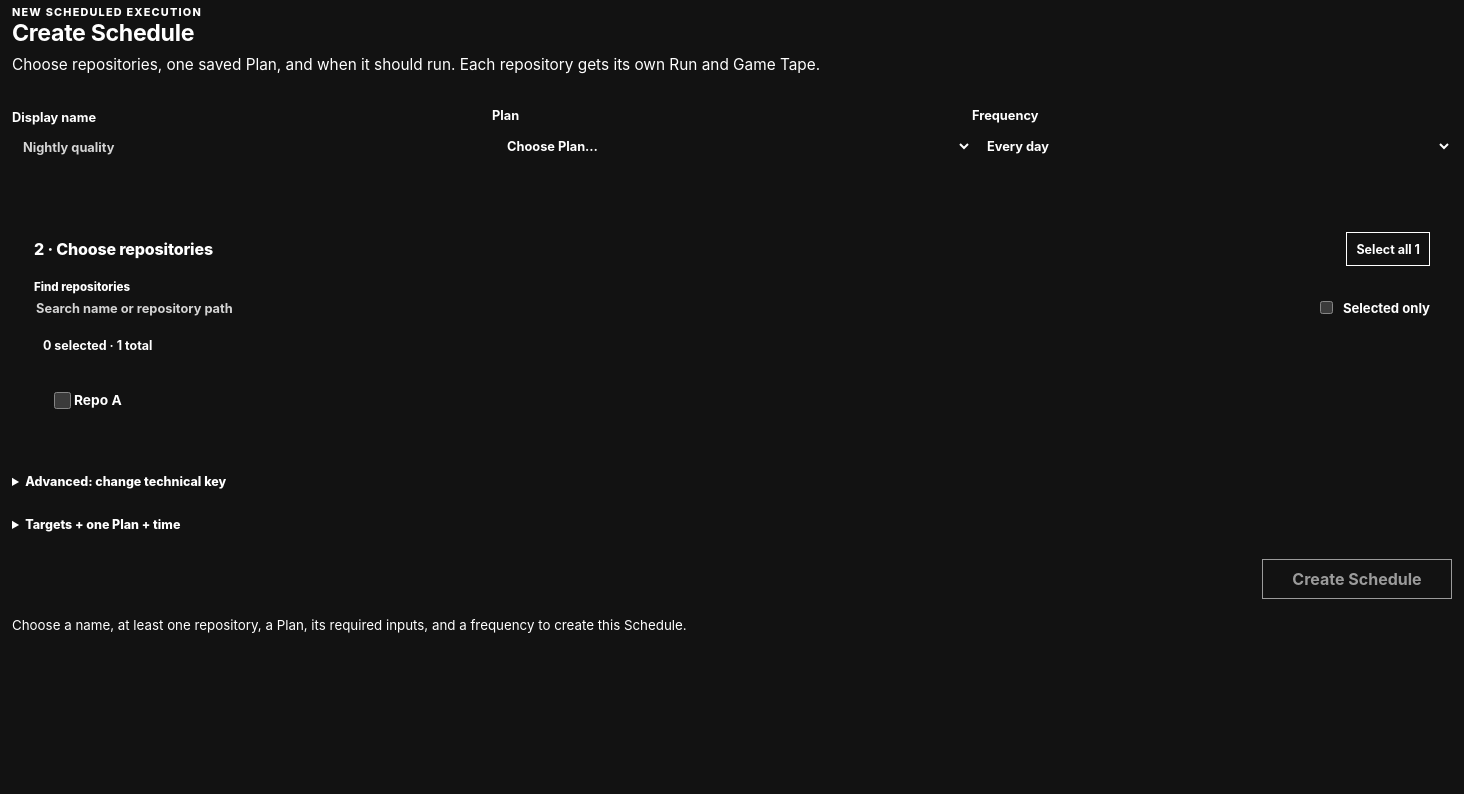
ScheduleCreatePanel › keeps Schedule creation disabled when backend Plan-input validation rejects the values
This screenshot has width=1464, height=794.
Type "Nightly security" into the field labelled "Display name". click: [252, 148]
box: [12,132,492,164]
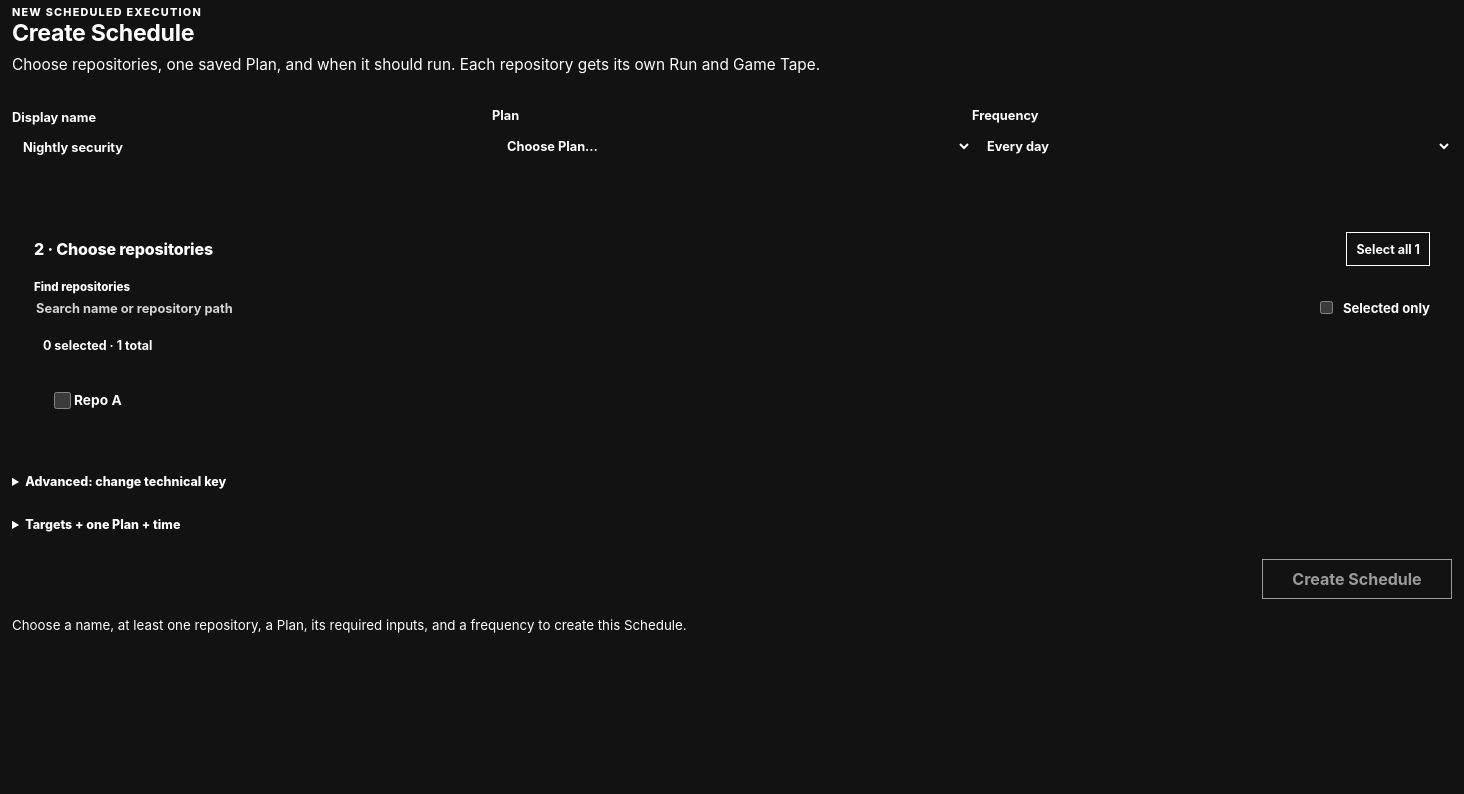
Select "security/standard" in the dropdown labelled "Plan". click: [732, 147]
box: [492,130,972,164]
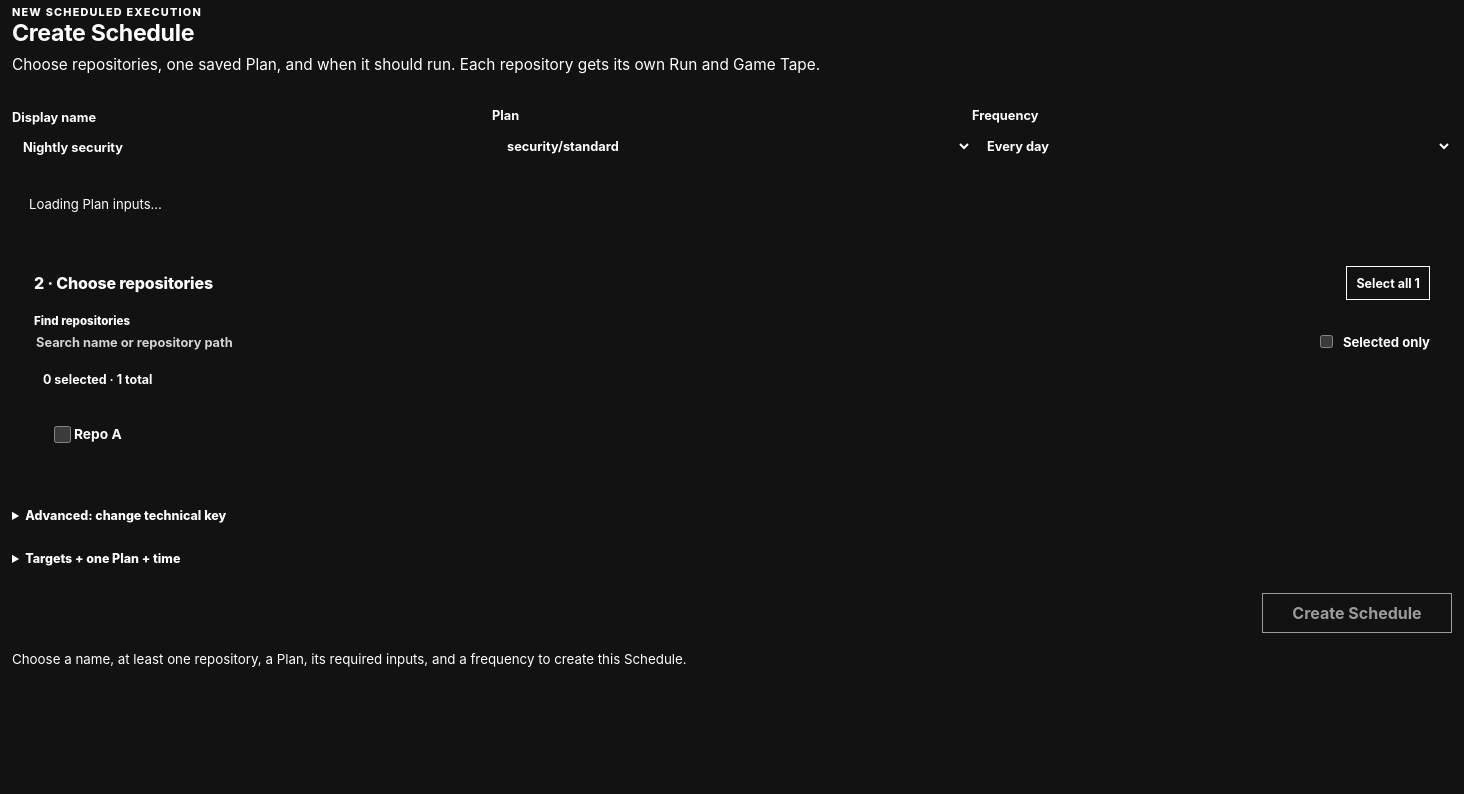
Click the checkbox labelled "Repo A". click: [62, 434]
box: [54,426,71,443]
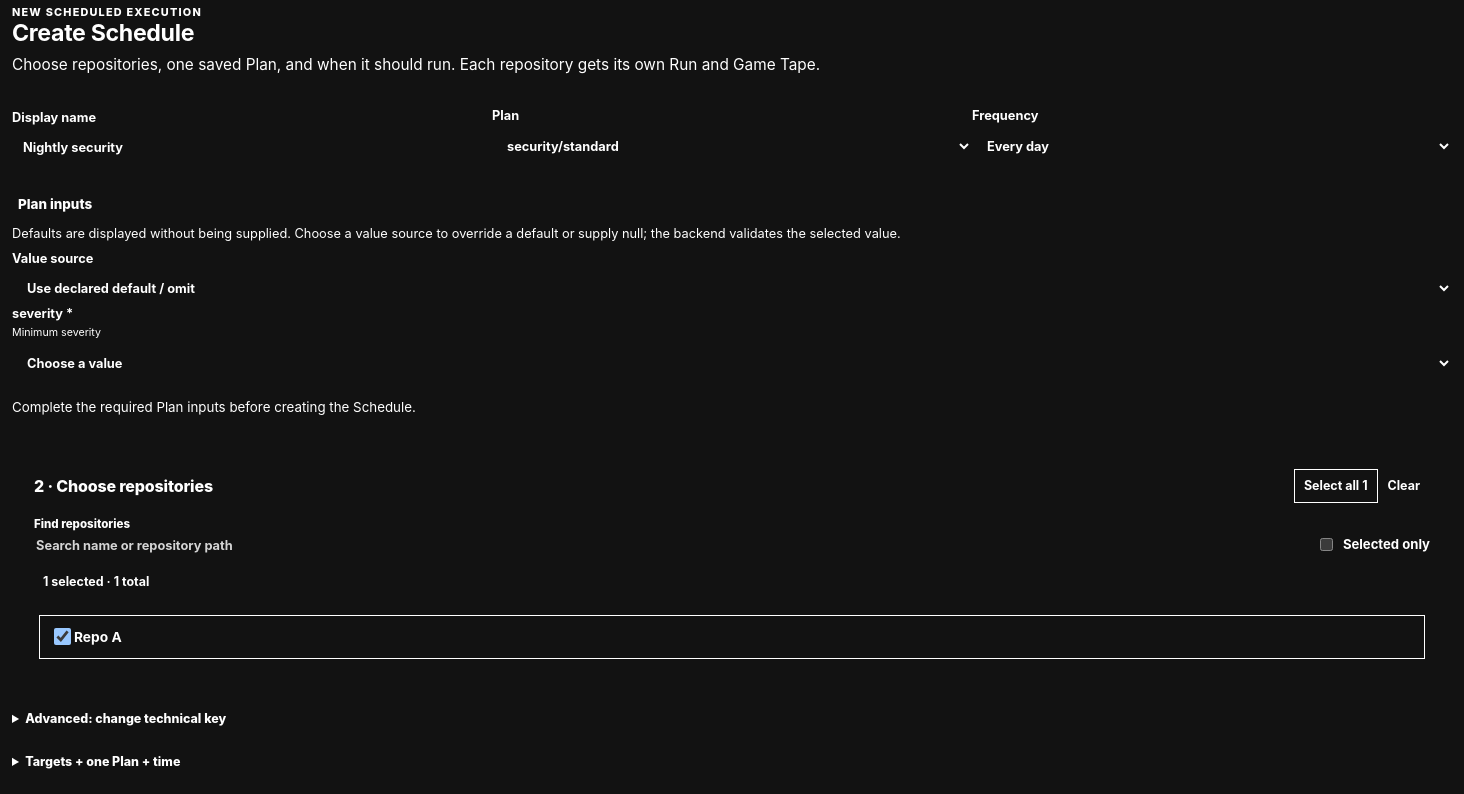
Now the dropdown labelled "severity * Minimum severity" is shown
Select "critical" in the dropdown labelled "severity * Minimum severity". click: [732, 363]
box: [12,346,1452,381]
(page scrolled)
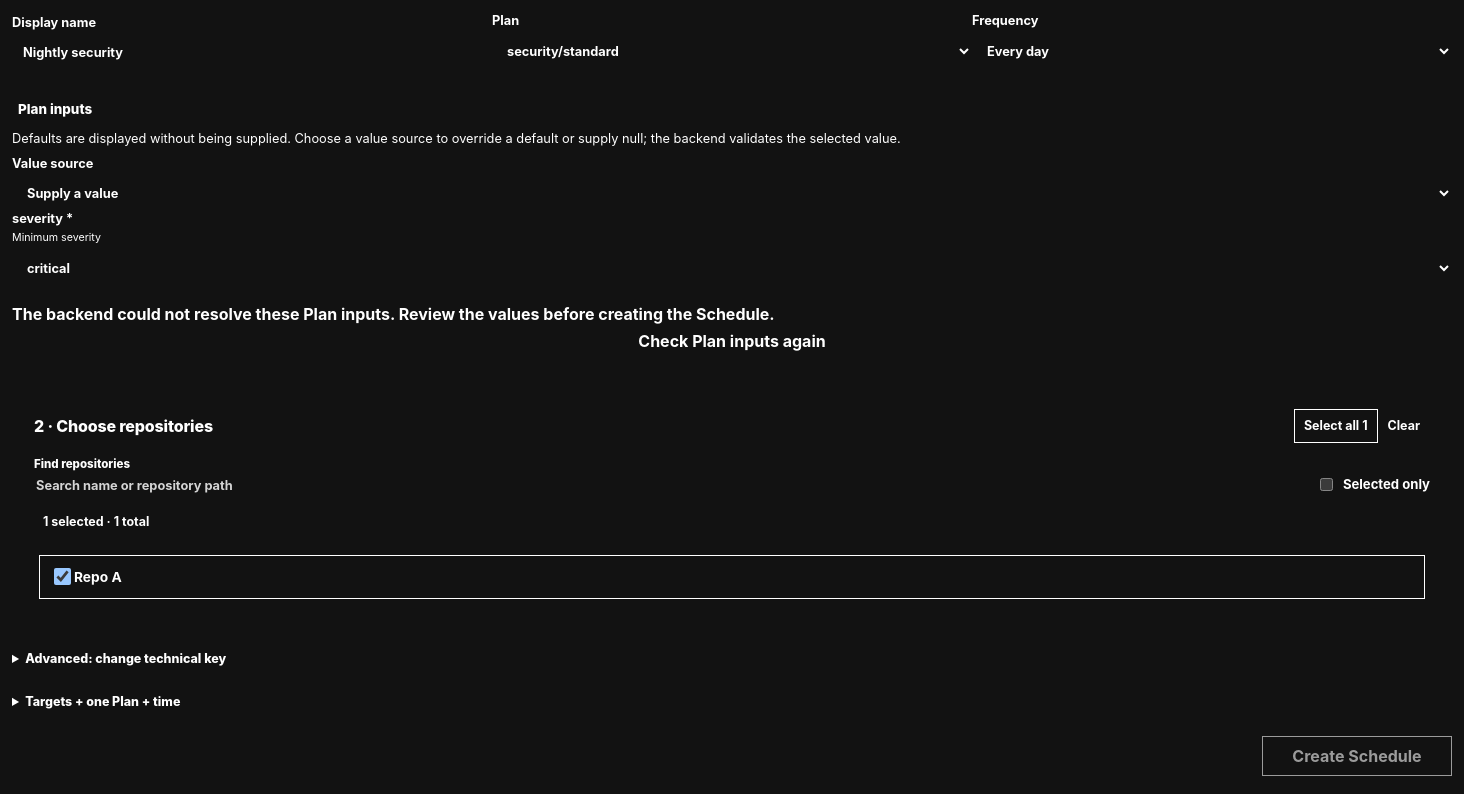
Expected: the button "Create Schedule" is disabled, [1262,736,1452,776]
Now the 1st message shows "The backend could not resolve these Plan inputs. Review the values before creating the Schedule.", box [12,304,775,324]
